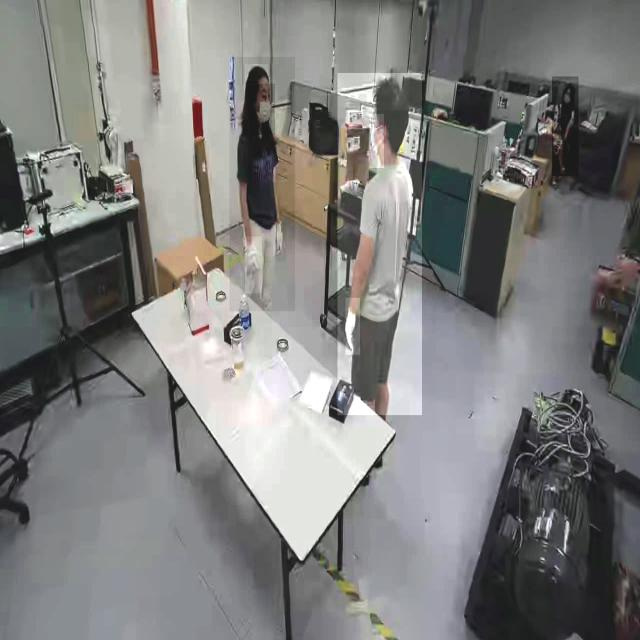face_mask: (249, 84, 275, 135), (370, 114, 384, 168), (561, 86, 571, 111)
hand_glove: (245, 237, 263, 294), (346, 298, 360, 356), (276, 211, 287, 261)
head_nohelmet: (372, 75, 410, 111), (245, 64, 269, 82), (566, 80, 574, 88)
person: (338, 73, 422, 416), (230, 57, 296, 312), (552, 76, 579, 177)
